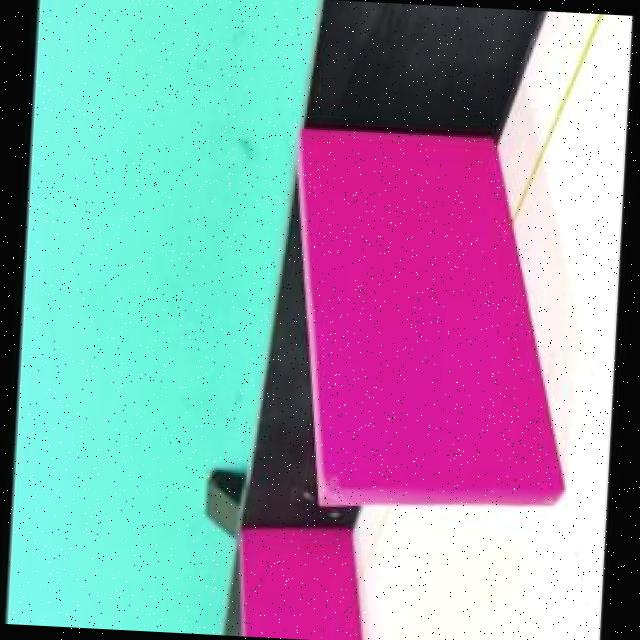xparking: (327, 142, 568, 502), (247, 539, 364, 640)
